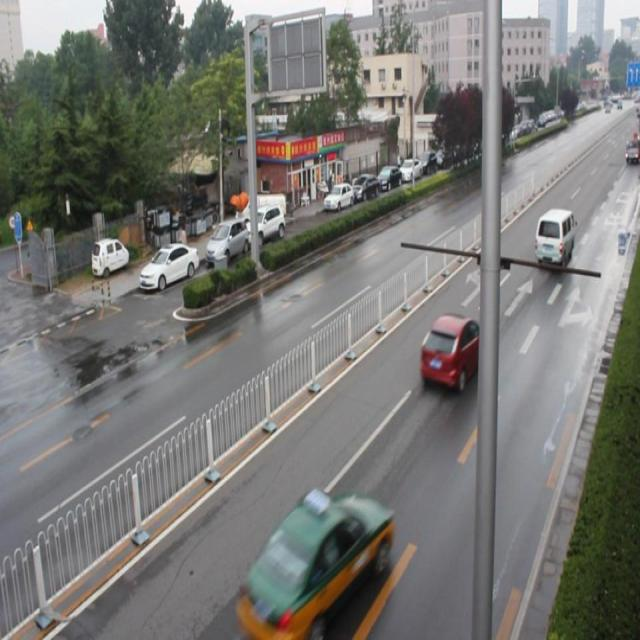car: (239, 487, 392, 628), (419, 310, 490, 393)
truck: (532, 206, 575, 266)
